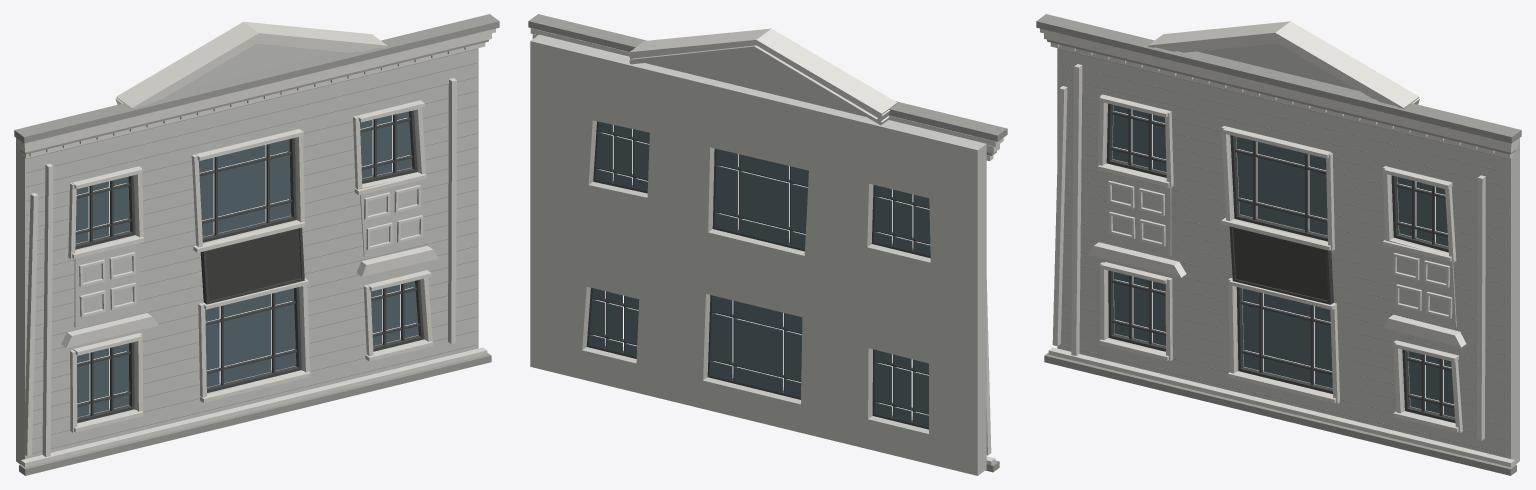
File: lod-source.glb
3 views of the same model, side by side, from view 1: azimuth 30°, elevation 25°; view 2: azimuth 150°, elevation 25°; view 3: azimuth 330°, elevation 25° (orthographic).
Parts seen in each view (by area): view 1: 泰安路74号上海市质量协会临街面; view 2: 泰安路74号上海市质量协会临街面; view 3: 泰安路74号上海市质量协会临街面.
Boxes of the visible parts, x1,y1,x2,y2 form: 泰安路74号上海市质量协会临街面: (14, 14, 499, 475); 泰安路74号上海市质量协会临街面: (528, 14, 1007, 475); 泰安路74号上海市质量协会临街面: (1036, 14, 1521, 475).
Size of the model in its own units: 12.5 by 9.73 by 0.88.
